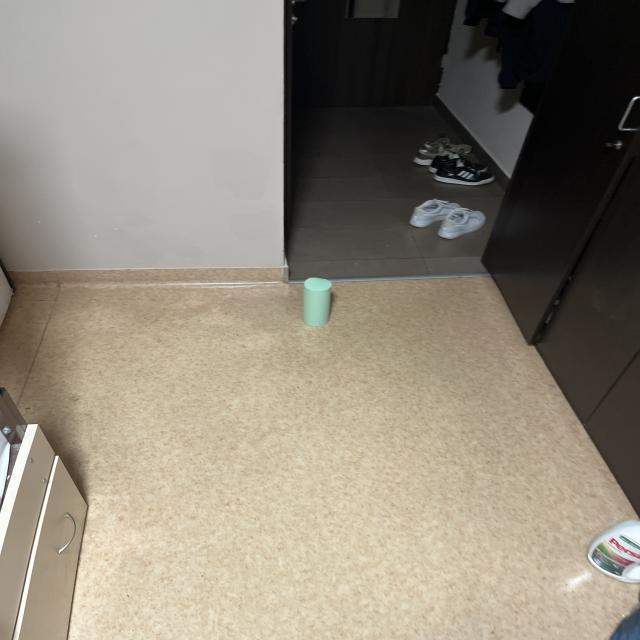meta: (303, 277, 331, 326)
